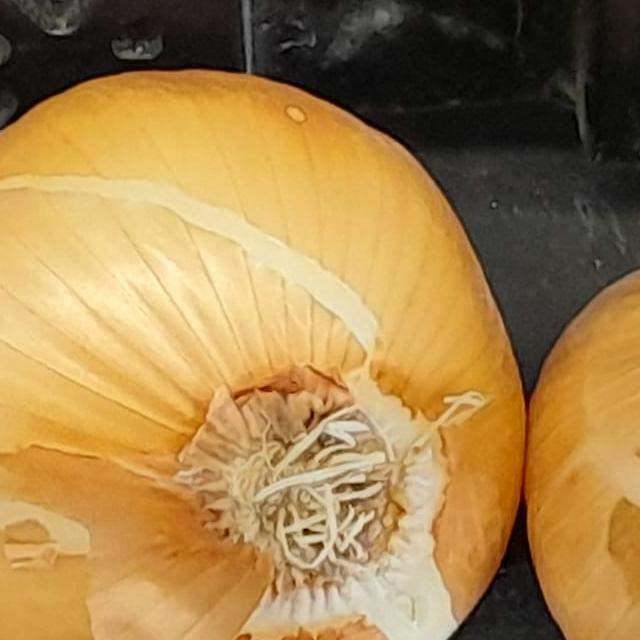onion: (0, 15, 520, 640)
